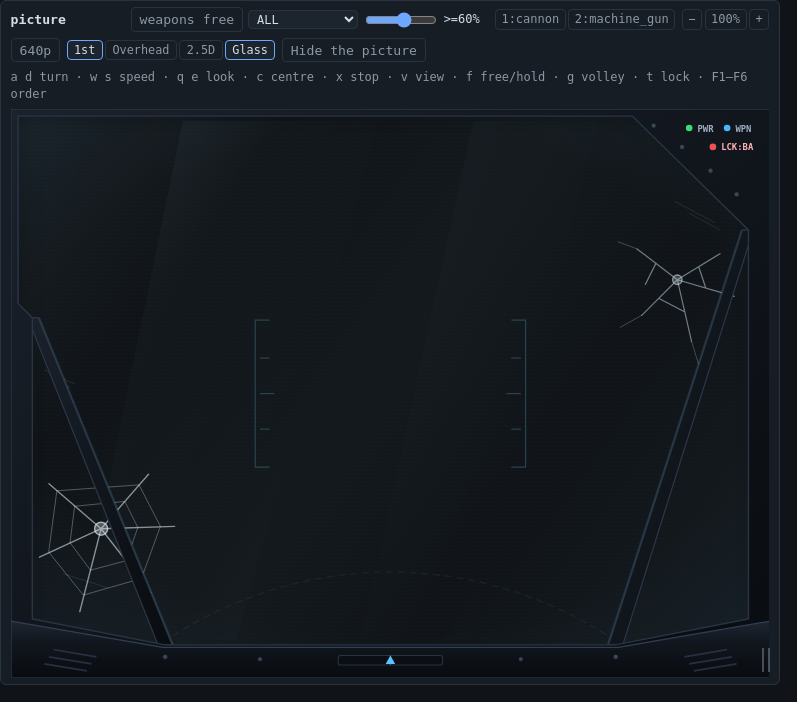
PictureView mounted, drawn here: a fresh canvas is painted › predicts hull rotation smoothly during a held turn and orders the predicted heading on release
This screenshot has width=797, height=702.
Press d in the element showing "PWR WPN LCK:BA"
// Releasing the key orders the predicted 60° heading, not the stale 45° keyframe heading.
Press d in the element showing "PWR WPN LCK:BA"
Click the button named "HD resolution toggle" at (35, 50), box [11, 38, 60, 62]
Wait 66 ms
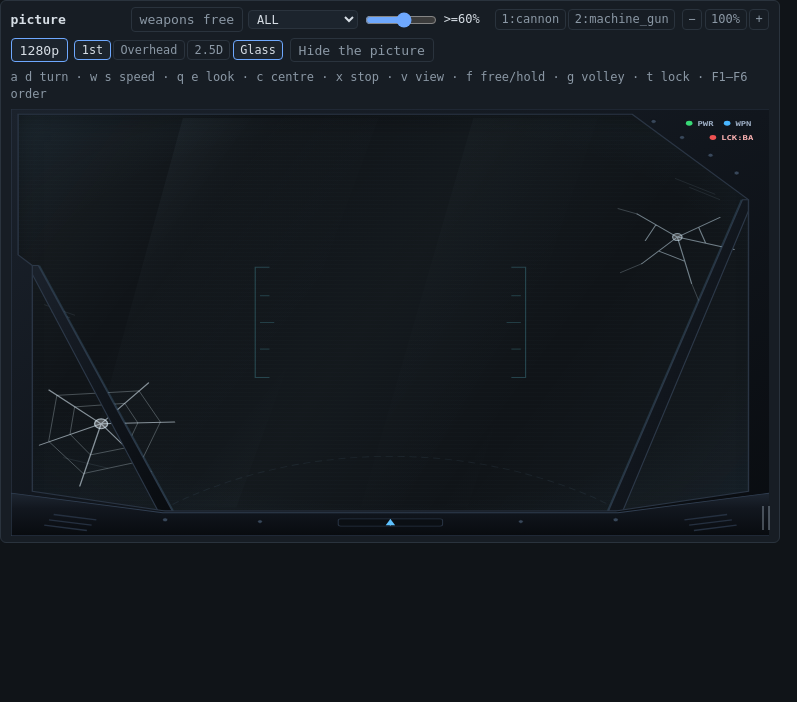
Check: the button named "HD resolution toggle" reads "1280p", box [11, 38, 68, 62]
